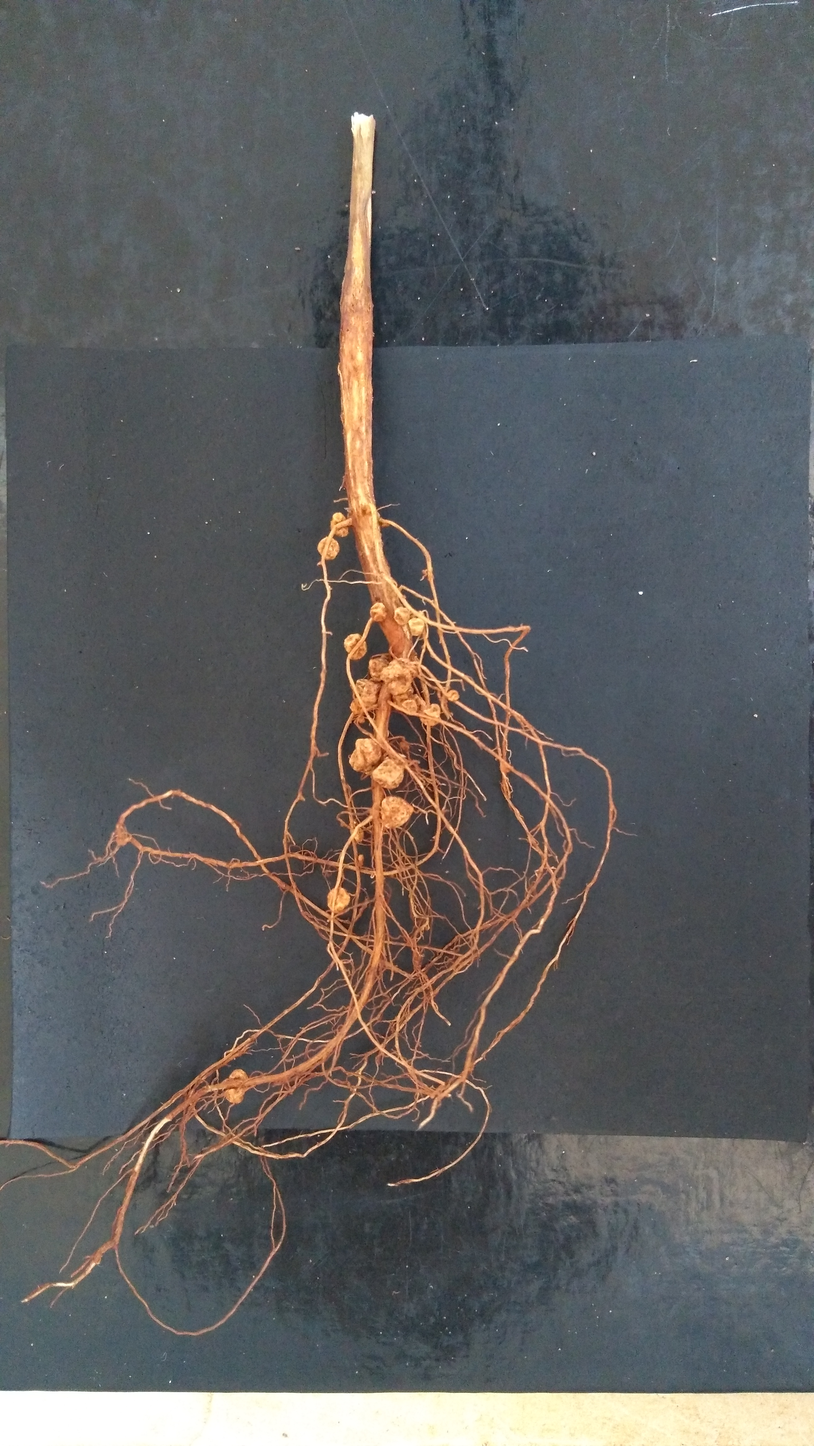nodule: (347, 735, 383, 775), (379, 793, 414, 832), (371, 757, 408, 791), (379, 664, 414, 696), (222, 1067, 250, 1106), (350, 677, 382, 707), (323, 886, 352, 914), (342, 631, 369, 661), (388, 656, 419, 680), (366, 655, 391, 681), (316, 535, 341, 560), (347, 698, 380, 716), (329, 510, 350, 538), (368, 599, 389, 625), (406, 614, 427, 639), (392, 604, 411, 626), (419, 712, 441, 728), (349, 824, 366, 843), (445, 687, 461, 705), (401, 698, 420, 713), (423, 703, 441, 718), (356, 853, 368, 869)
